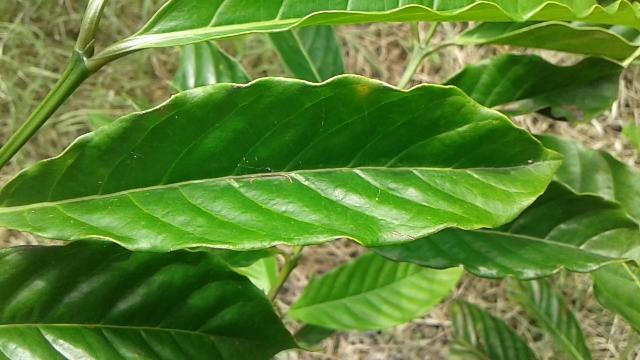rust_level_1: (0, 64, 572, 254)
